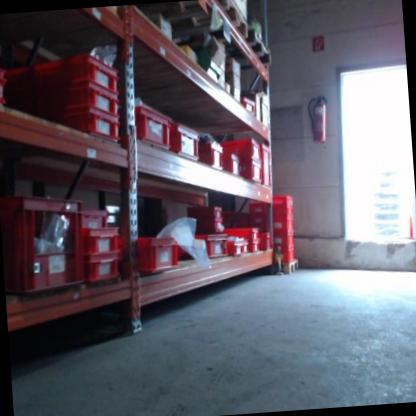pallet: (132, 0, 253, 57), (177, 26, 275, 77), (272, 255, 302, 277)
small_load_carrier: (0, 195, 85, 301), (3, 55, 123, 97), (30, 78, 120, 119), (116, 100, 174, 160), (52, 104, 124, 149), (134, 231, 181, 276), (169, 118, 202, 169), (81, 224, 123, 258), (186, 232, 232, 263), (222, 134, 263, 167), (195, 134, 225, 172), (84, 256, 123, 284), (75, 200, 110, 229), (220, 146, 245, 181), (260, 140, 275, 192), (0, 61, 15, 107), (223, 224, 258, 241), (189, 205, 223, 221), (240, 96, 258, 124), (195, 218, 224, 234), (264, 193, 295, 207), (272, 216, 295, 234), (245, 160, 262, 184), (274, 247, 296, 264), (273, 233, 296, 248), (271, 205, 296, 217), (228, 240, 243, 255), (260, 233, 273, 249), (250, 240, 263, 253), (242, 239, 251, 254)
